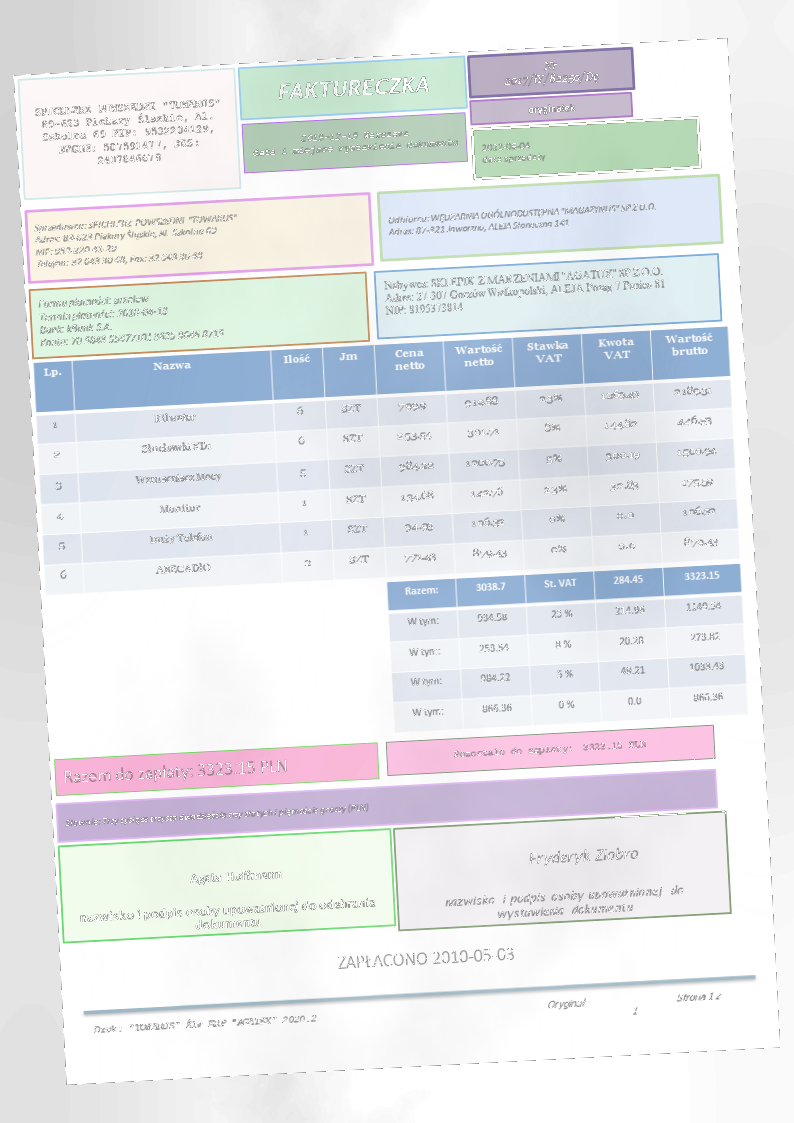Table: (32, 326, 739, 596), (385, 562, 749, 733)
TextBox: (382, 263, 669, 317), (32, 96, 224, 170), (78, 894, 377, 937), (31, 211, 242, 271), (35, 287, 226, 350), (384, 199, 660, 238), (443, 883, 686, 924), (62, 800, 371, 831), (248, 123, 460, 159), (62, 757, 288, 789), (546, 990, 725, 1021), (92, 1012, 318, 1036), (336, 944, 517, 972), (452, 738, 648, 762), (276, 74, 430, 102), (501, 56, 603, 90), (526, 843, 641, 870), (188, 867, 283, 887), (480, 139, 547, 166), (526, 100, 577, 118)
